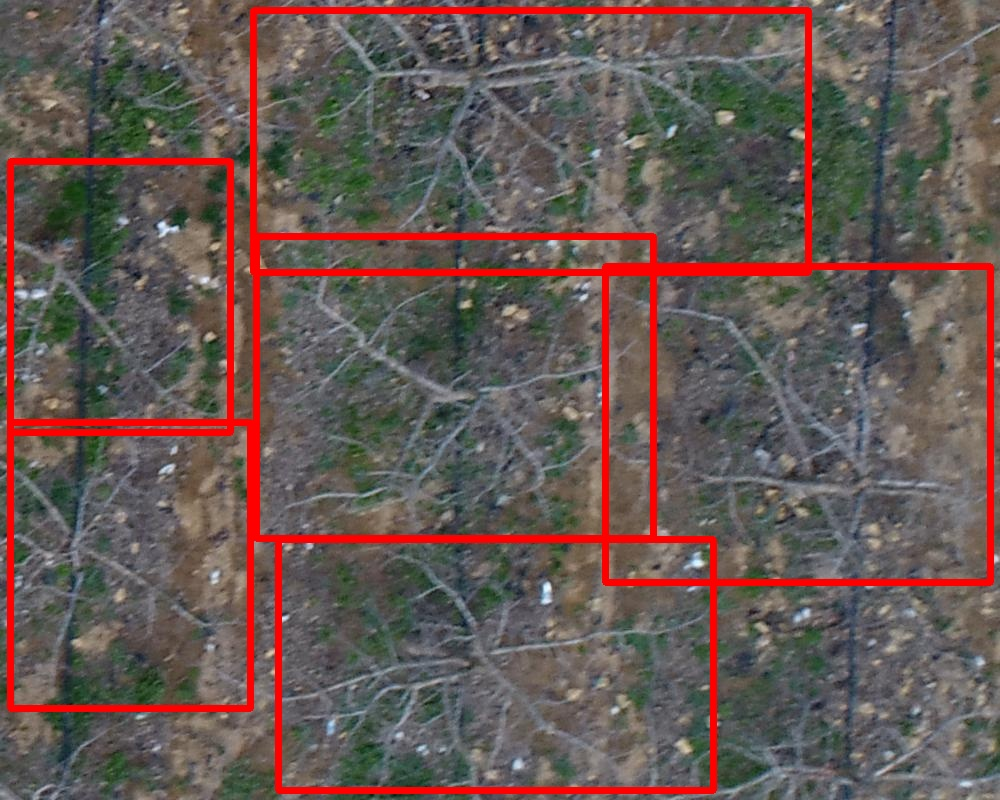apple: (253, 10, 808, 272), (605, 266, 990, 582), (256, 236, 653, 538), (278, 539, 713, 790), (10, 422, 250, 708), (10, 161, 230, 432)
